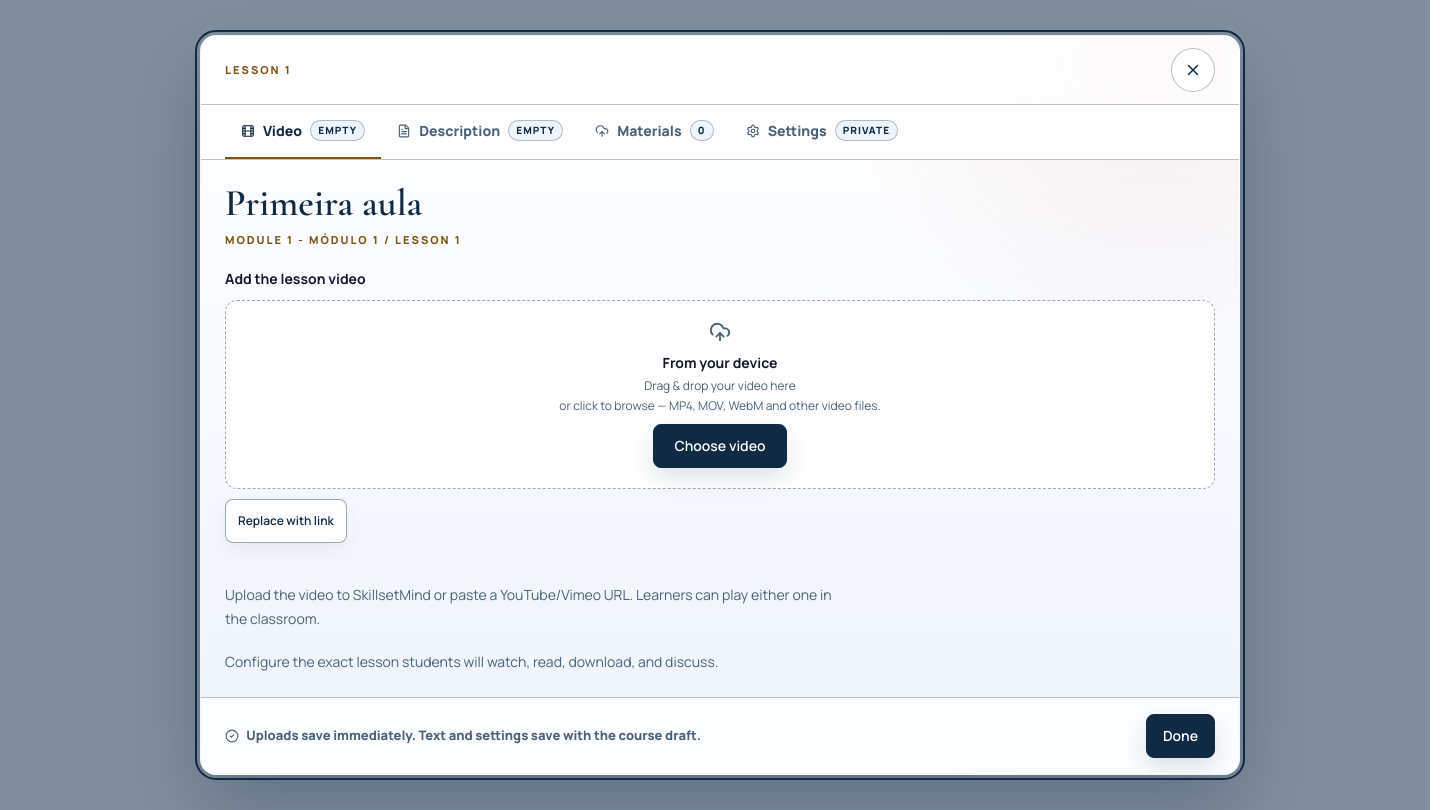
Test: LessonContentModal — um video por aula › link que nao e YouTube nem Vimeo mostra erro e nao grava
This screenshot has width=1440, height=810.
Click the button "Replace with link": [286, 522] box left=225, top=500, right=347, bottom=544
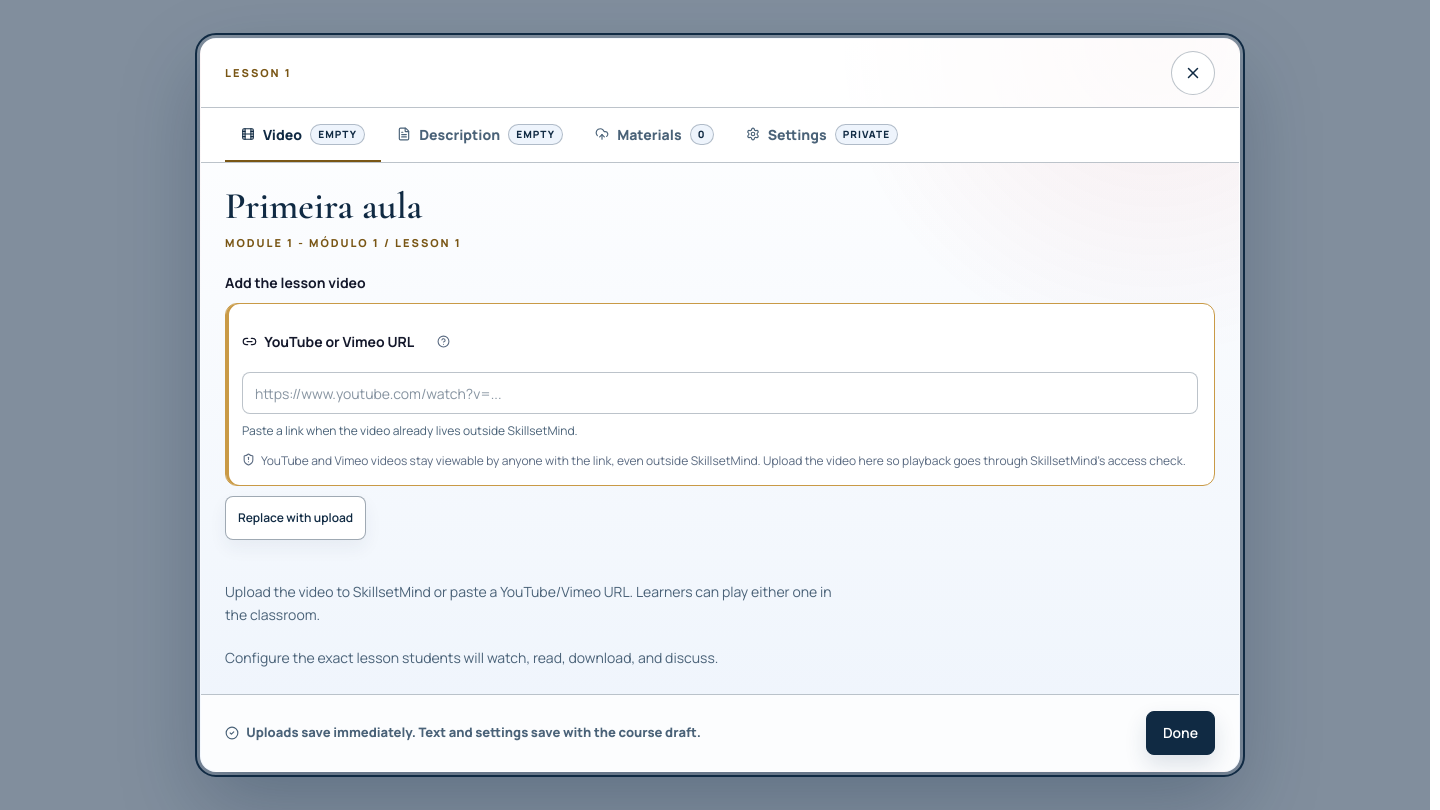
In the field labelled "YouTube or Vimeo URL": [720, 393] box left=242, top=372, right=1198, bottom=414, type "https://example.test/v.mp4"
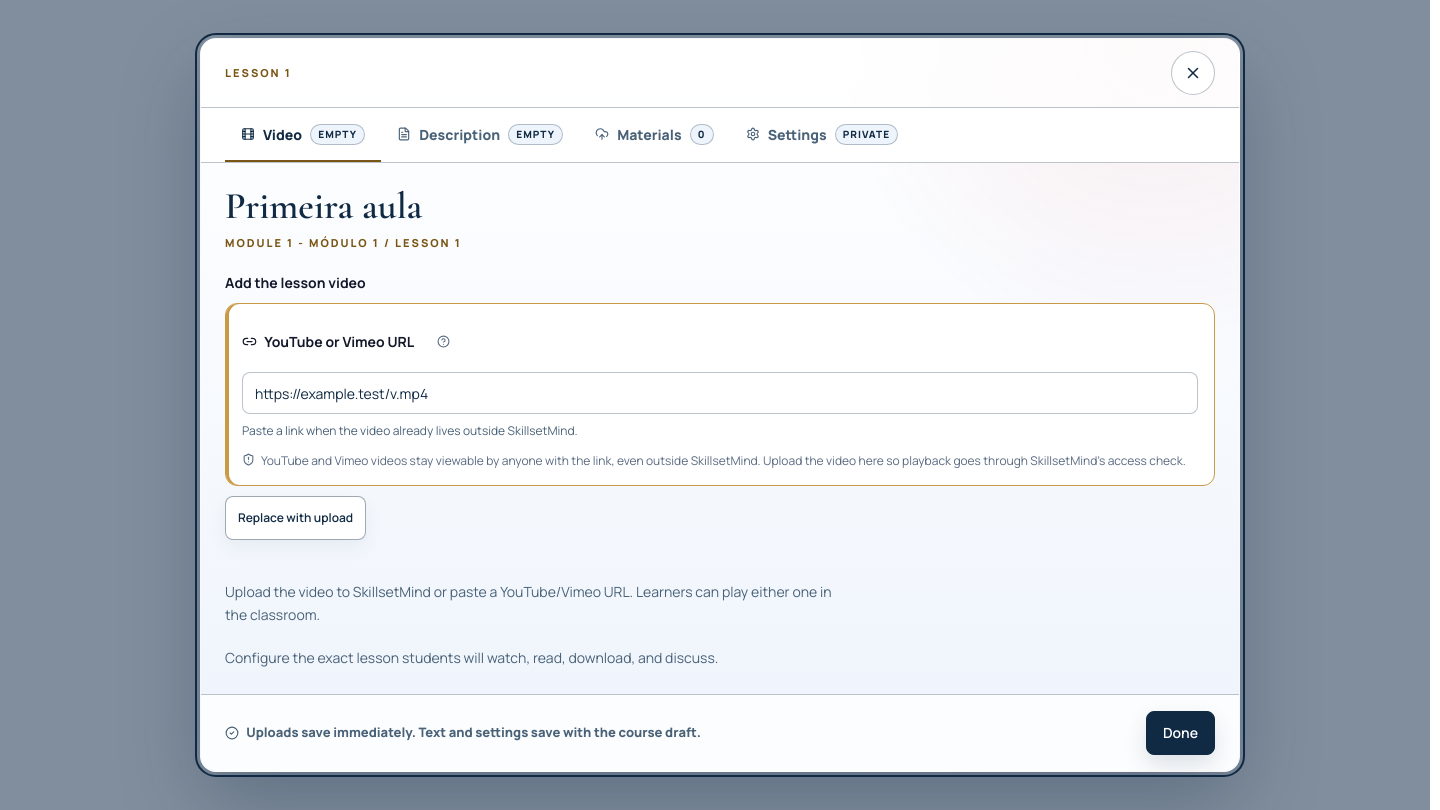
Leave the field labelled "YouTube or Vimeo URL", box left=242, top=372, right=1198, bottom=414
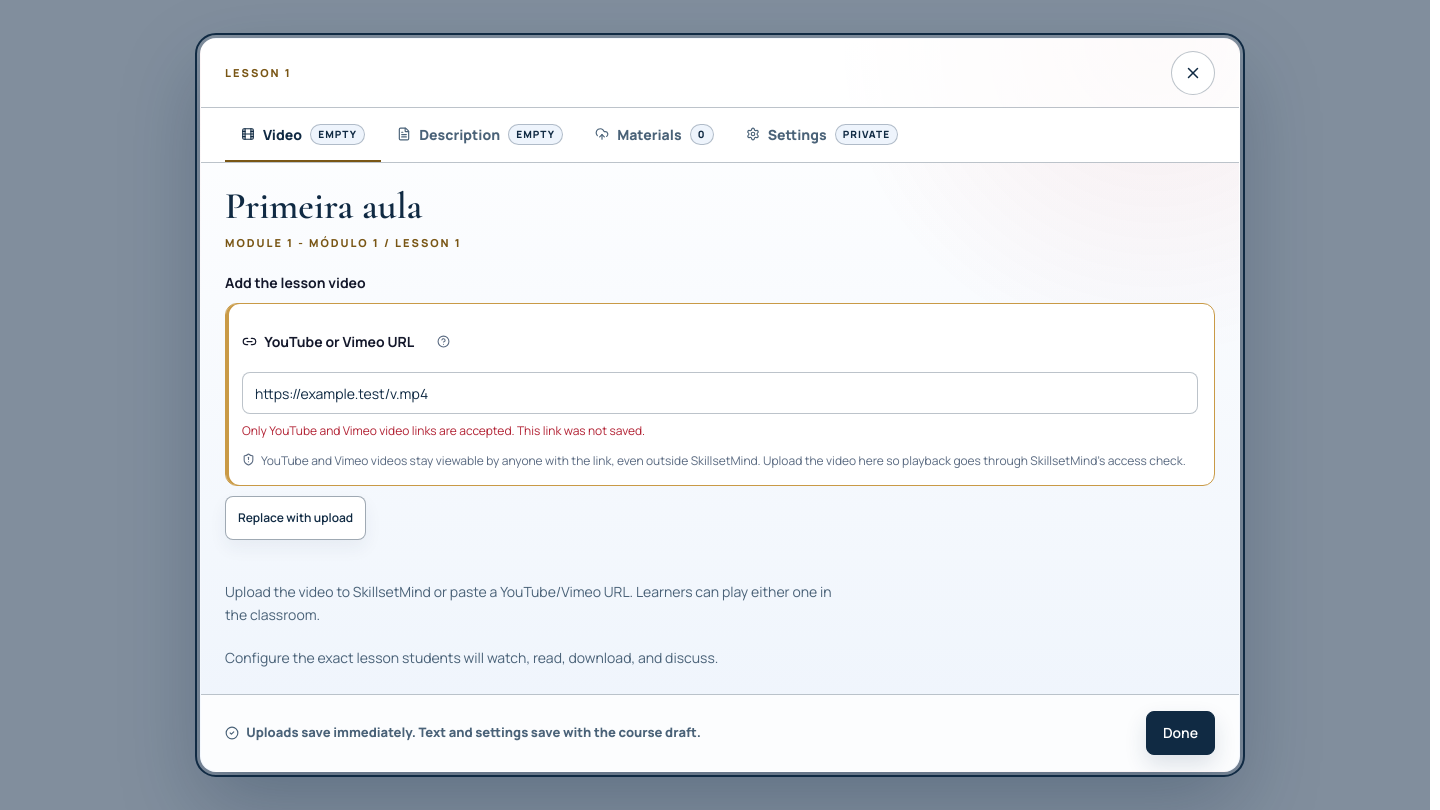
expect the text "Only YouTube and Vimeo video links are accepted. This link was not saved." is shown: met, box left=242, top=422, right=645, bottom=439
